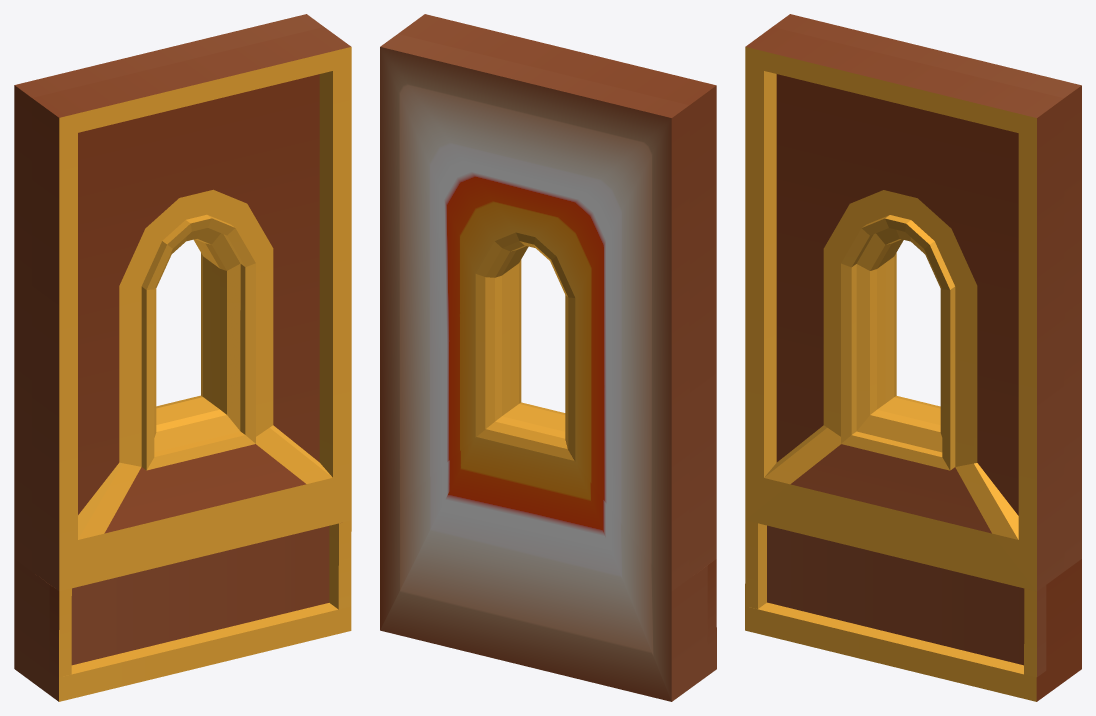
File: WallBigWindow.fbx
3 renders of one model, left to right at view 1: azimuth 30°, elevation 25°; view 2: azimuth 150°, elevation 25°; view 3: azimuth 330°, elevation 25°, orthographic.
Parts seen in each view (by area): view 1: WallBigWindow_LOD0; view 2: WallBigWindow_LOD0; view 3: WallBigWindow_LOD0.
Boxes of the visible parts, x1=… form: WallBigWindow_LOD0: x1=14, y1=14, x2=351, y2=701; WallBigWindow_LOD0: x1=380, y1=14, x2=716, y2=701; WallBigWindow_LOD0: x1=745, y1=14, x2=1081, y2=701.
Size of what is drawn, in the model's own units: 461 by 881 by 123.
